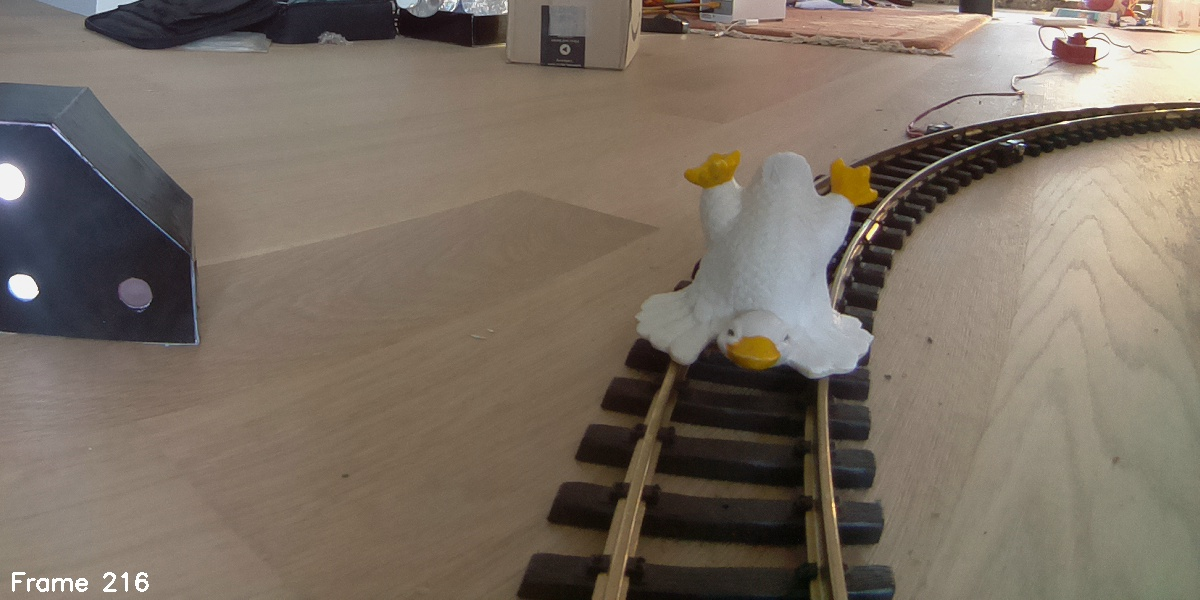Ente: (636, 147, 878, 384)
Fahrt: (1, 83, 199, 345)
